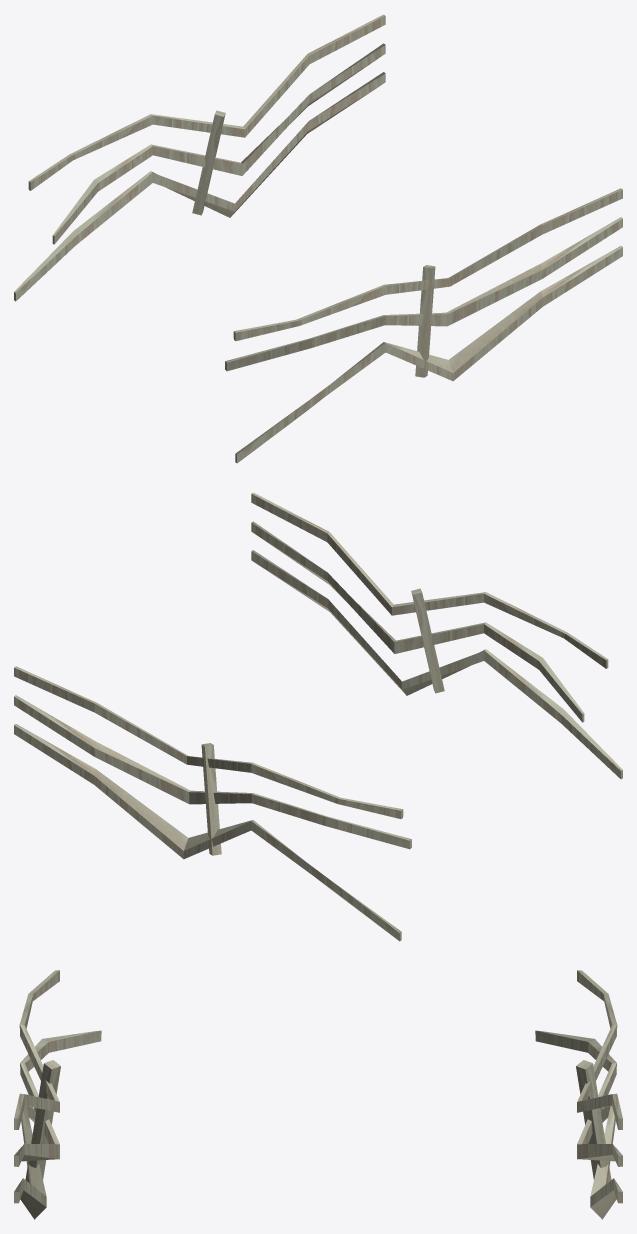
The picture shows the model from 3 angles, top to bottom: view 1: azimuth 30°, elevation 25°; view 2: azimuth 150°, elevation 25°; view 3: azimuth 270°, elevation 25°; orthographic projection. The views are drawn at different scales.
Visible parts, largest first — view 1: brid_rln020_woodsemwhite_0; view 2: brid_rln020_woodsemwhite_0; view 3: brid_rln020_woodsemwhite_0.
Boxes of the visible parts, x1,y1,x2,y2 form: brid_rln020_woodsemwhite_0: [14, 14, 622, 463]; brid_rln020_woodsemwhite_0: [14, 492, 622, 941]; brid_rln020_woodsemwhite_0: [14, 970, 622, 1219].
Bounding box in the file's own units: 2.7 × 1.28 × 2.96.
1 material, 1 textured.
